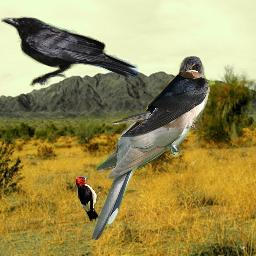Crow: (1, 16, 140, 87)
Cuckoo: (91, 79, 215, 240)
Swallow: (109, 56, 210, 137)
Woodpecker: (75, 176, 103, 222)
